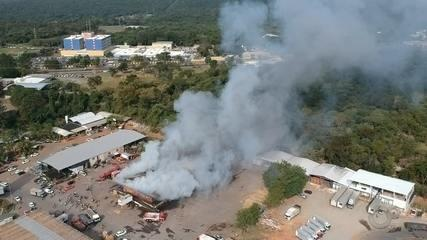smoke: (187, 97, 288, 155), (288, 11, 399, 61)
